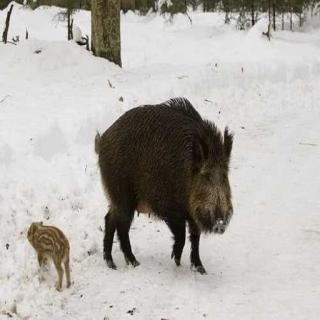Pig: (56, 95, 248, 274)
